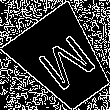M_SE: (27, 26, 98, 95)
